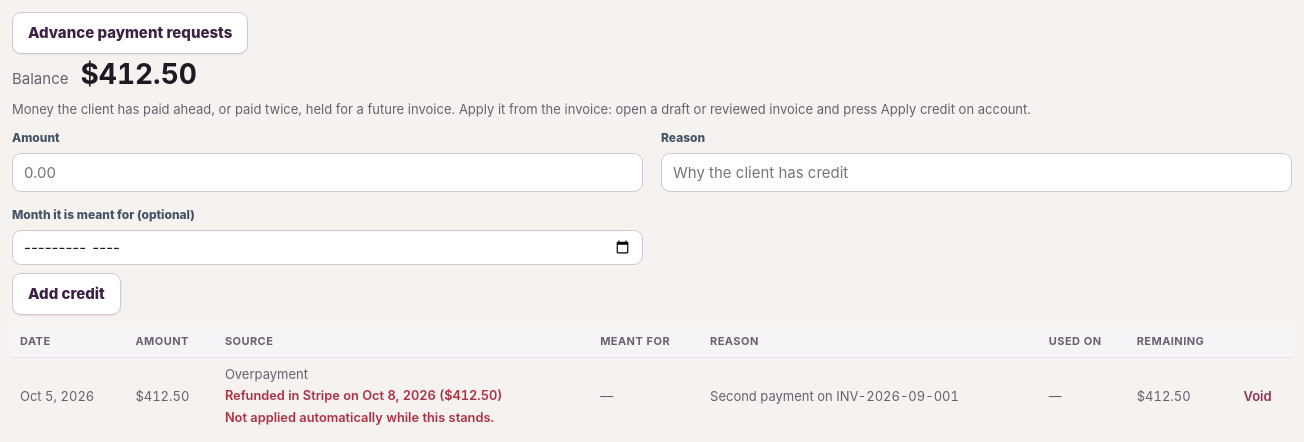
it: a credit whose payment was refunded or disputed in Stripe › says it was refunded, with the date and amount, and offers Void as the one click
Expected: the text with test id "account-credit-balance" reads "$412.50", x1=80 y1=57 x2=197 y2=91
Expected: the text with test id "account-credit-reversal" reads "Refunded in Stripe on Oct 8, 2026 ($412.50)", x1=225 y1=388 x2=502 y2=403
Click the button "Void": (1258, 396) x1=1244 y1=383 x2=1272 y2=410
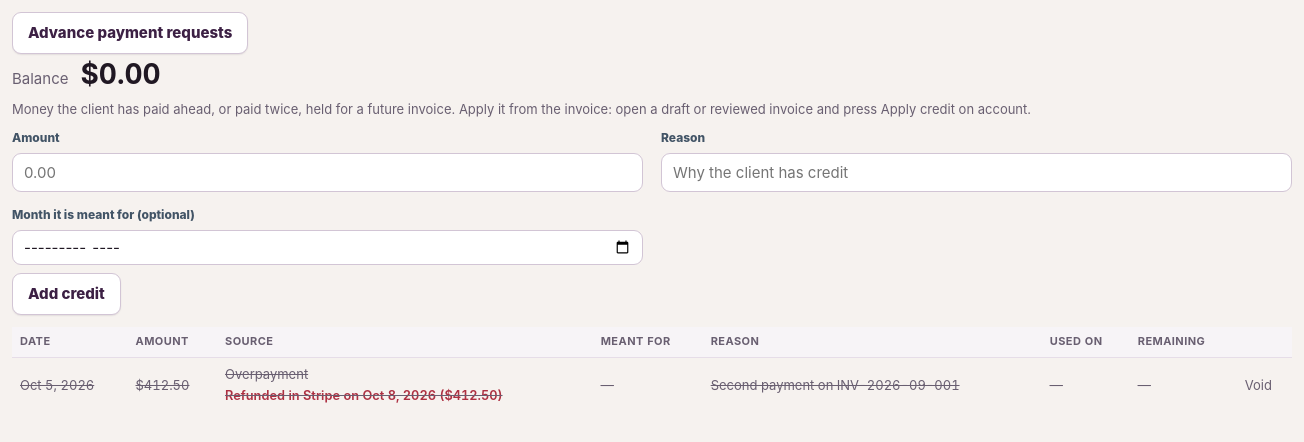
Expected: the text with test id "account-credit-balance" reads "$0.00", x1=80 y1=57 x2=161 y2=91
